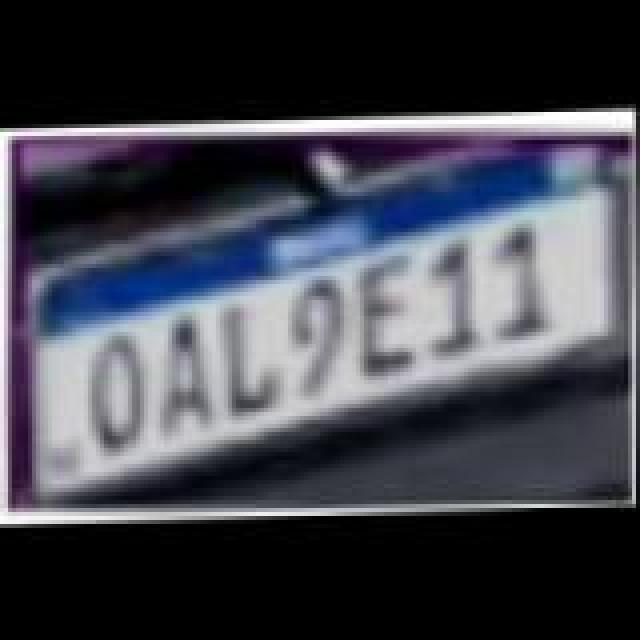1: (494, 218, 558, 338), (422, 236, 486, 356)
9: (286, 274, 350, 398)
A: (154, 314, 218, 438)
E: (352, 258, 420, 378)
L: (218, 300, 282, 420)
O: (88, 328, 160, 452)
